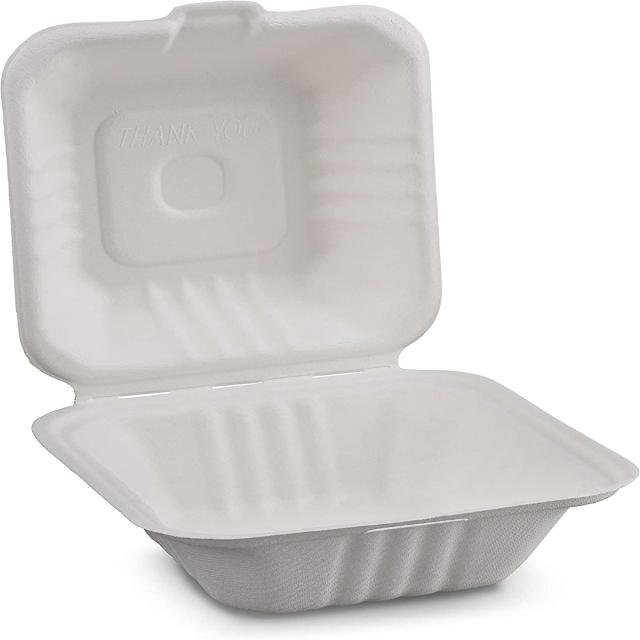styrofoam: (2, 1, 637, 614)
